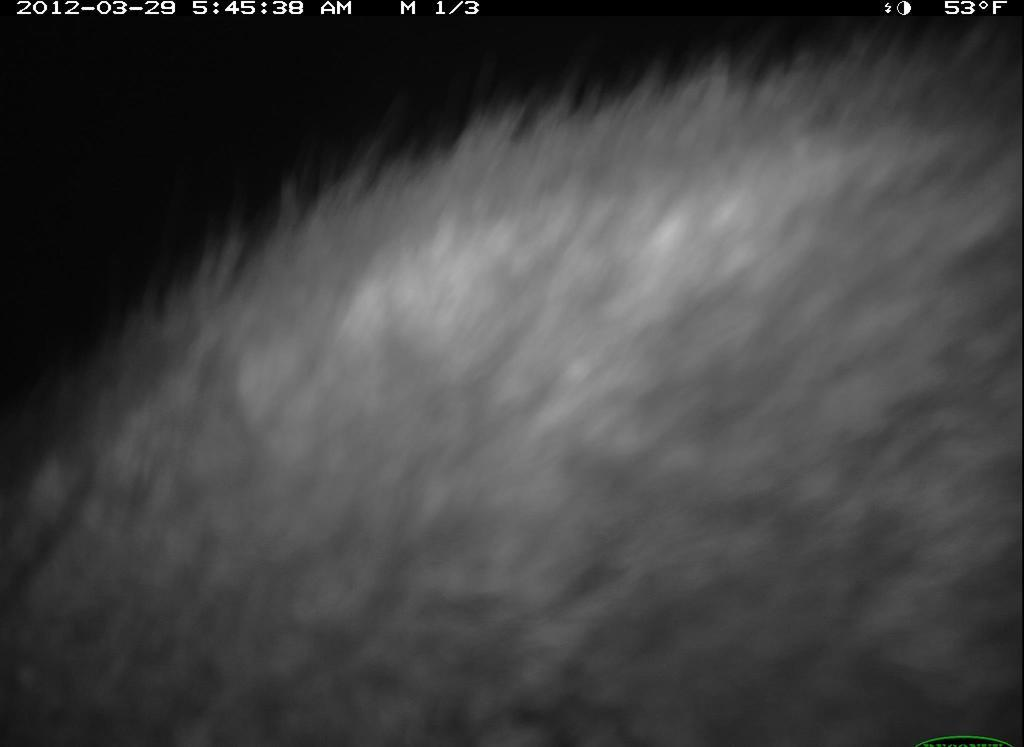raccoon: (6, 15, 1024, 747)
